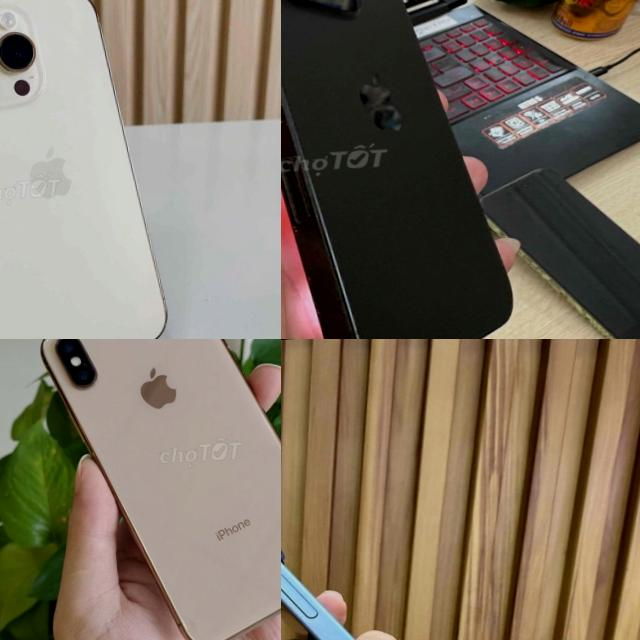gen_14: (0, 0, 175, 339)
gen_16: (281, 0, 530, 339)
gen_17: (281, 450, 525, 640)
gen_x_xs: (36, 339, 281, 640)
